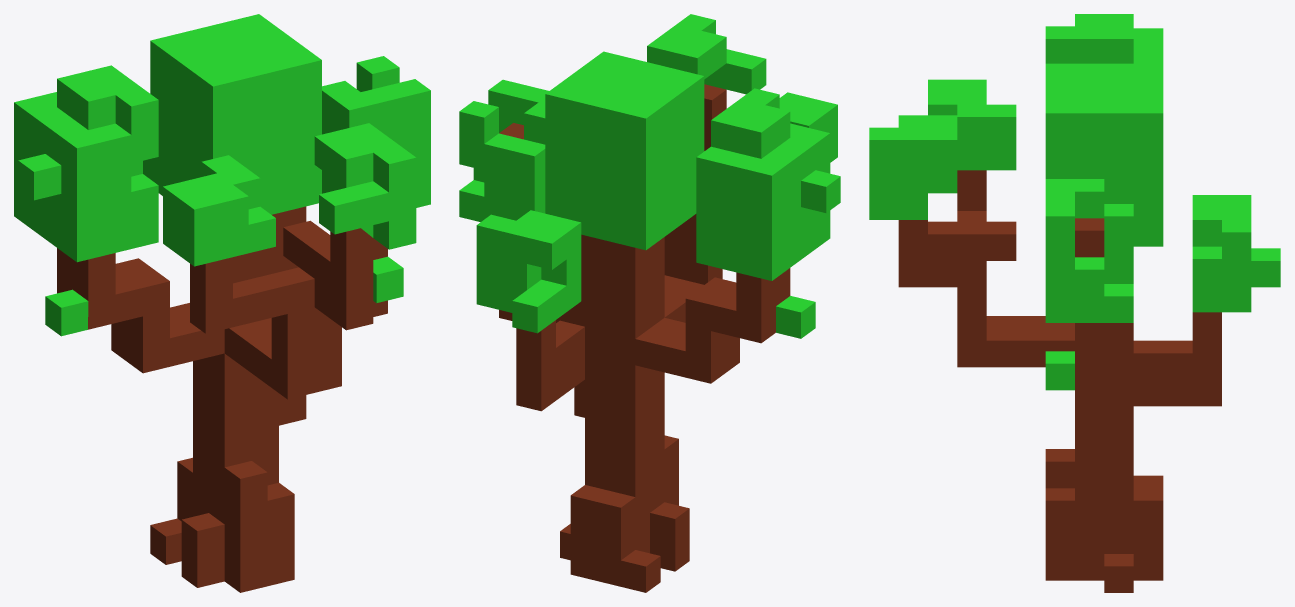
File: Normal_Tree.fbx
The picture shows the model from 3 angles, left to right: view 1: azimuth 30°, elevation 25°; view 2: azimuth 150°, elevation 25°; view 3: azimuth 270°, elevation 25°; orthographic projection. The views are drawn at different scales.
Visible parts, largest first — view 1: normal tree; view 2: normal tree; view 3: normal tree.
Part boxes in pixels (bbox=[...]): normal tree: bbox=[14, 14, 430, 592]; normal tree: bbox=[459, 14, 840, 592]; normal tree: bbox=[869, 14, 1280, 592].
Bounding box in the file's own units: 71.59 × 92.04 × 71.59.
